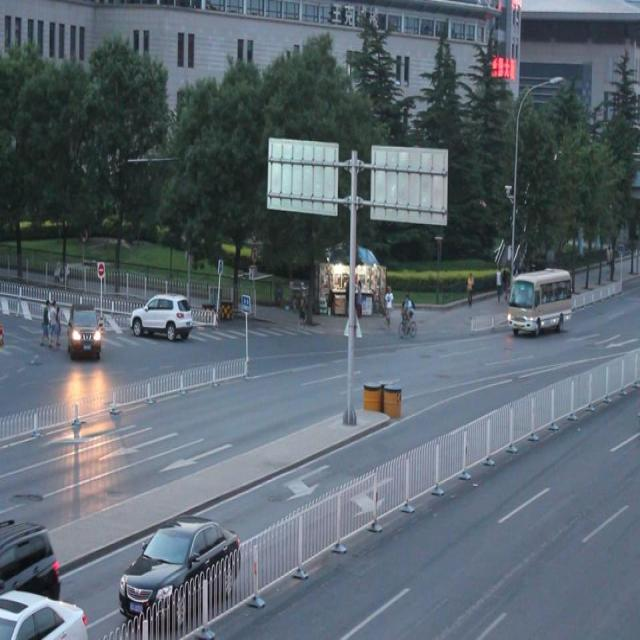car: (120, 515, 241, 626), (1, 515, 61, 607), (1, 585, 89, 640), (128, 292, 192, 342), (66, 300, 101, 355)
truck: (507, 272, 571, 328)
